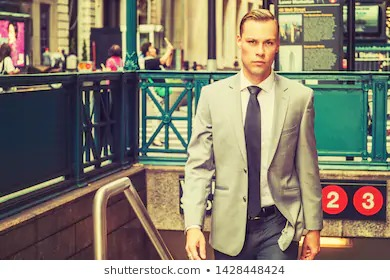F_M_suit jacket: (181, 65, 328, 260)
F_belt: (240, 204, 278, 223)
F_tie: (238, 83, 265, 223)
